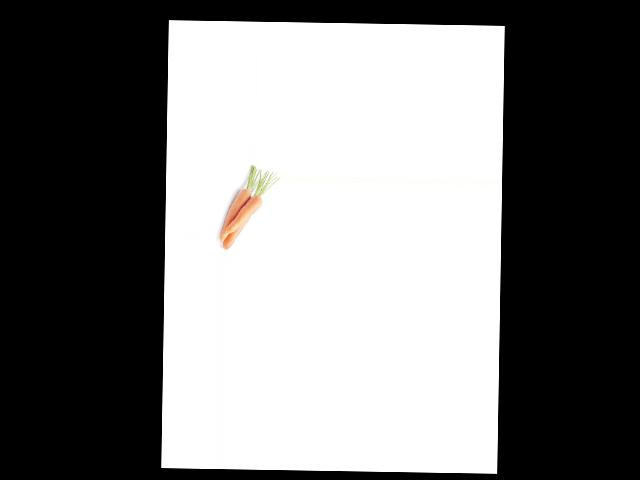carrot: (222, 213, 251, 249)
